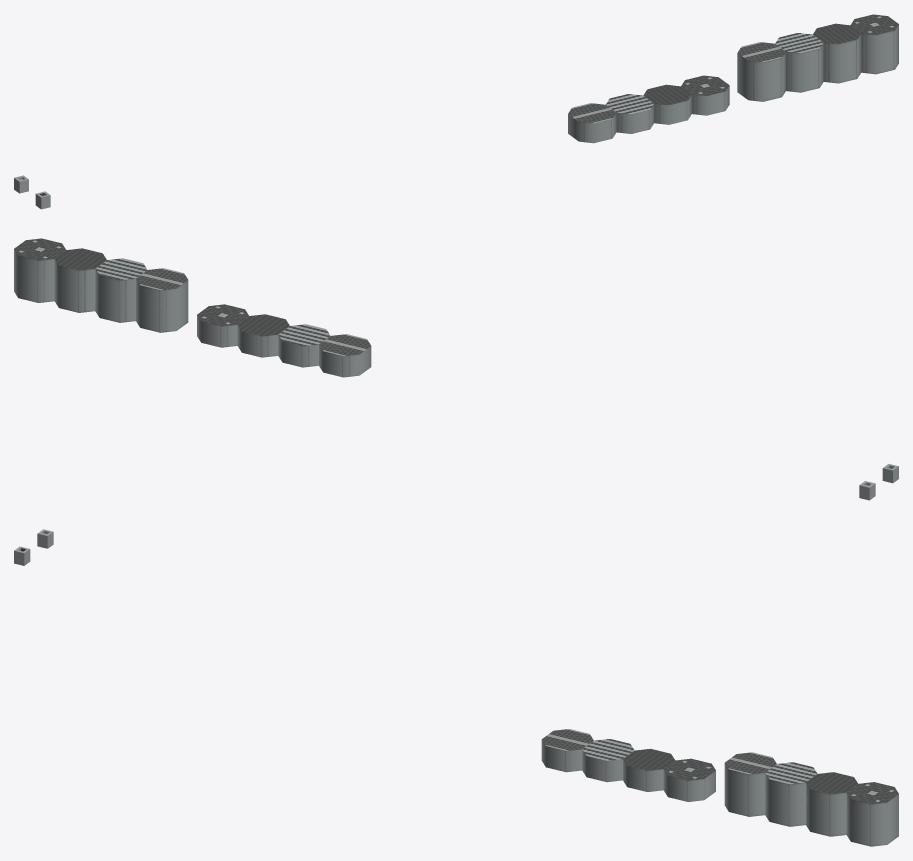
The model's file is ReplacementTiles.glb.
The picture shows the model from 3 angles, top to bottom: view 1: azimuth 30°, elevation 25°; view 2: azimuth 150°, elevation 25°; view 3: azimuth 330°, elevation 25°; orthographic projection. The views are drawn at different scales.
Parts seen in each view (by area): view 1: FloorPanel_Circle_TwoMeter_1, FloorPanel_Circle_TwoMeter_3, FloorPanel_Circle_TwoMeter_4, FloorPanel_Circle_TwoMeter_2, FloorPanel_Circle_OneMeter_1, FloorPanel_Circle_OneMeter_2, FloorPanel_Circle_OneMeter_4, FloorPanel_Circle_OneMeter_3; view 2: FloorPanel_Circle_TwoMeter_1, FloorPanel_Circle_TwoMeter_3, FloorPanel_Circle_TwoMeter_2, FloorPanel_Circle_TwoMeter_4, FloorPanel_Circle_OneMeter_1, FloorPanel_Circle_OneMeter_3, FloorPanel_Circle_OneMeter_2, FloorPanel_Circle_OneMeter_4; view 3: FloorPanel_Circle_TwoMeter_4, FloorPanel_Circle_TwoMeter_1, FloorPanel_Circle_TwoMeter_2, FloorPanel_Circle_TwoMeter_3, FloorPanel_Circle_OneMeter_4, FloorPanel_Circle_OneMeter_1, FloorPanel_Circle_OneMeter_3, FloorPanel_Circle_OneMeter_2.
Part boxes in pixels (bbox=[...]): FloorPanel_Circle_TwoMeter_1: bbox=[737, 42, 785, 101]; FloorPanel_Circle_TwoMeter_3: bbox=[813, 23, 861, 83]; FloorPanel_Circle_TwoMeter_4: bbox=[850, 14, 898, 74]; FloorPanel_Circle_TwoMeter_2: bbox=[775, 33, 823, 92]; FloorPanel_Circle_OneMeter_1: bbox=[568, 103, 616, 143]; FloorPanel_Circle_OneMeter_2: bbox=[605, 94, 654, 133]; FloorPanel_Circle_OneMeter_4: bbox=[681, 75, 729, 115]; FloorPanel_Circle_OneMeter_3: bbox=[643, 84, 691, 124]; FloorPanel_Circle_TwoMeter_1: bbox=[136, 268, 188, 332]; FloorPanel_Circle_TwoMeter_3: bbox=[54, 248, 106, 312]; FloorPanel_Circle_TwoMeter_2: bbox=[95, 258, 147, 322]; FloorPanel_Circle_TwoMeter_4: bbox=[14, 238, 65, 302]; FloorPanel_Circle_OneMeter_1: bbox=[319, 334, 371, 377]; FloorPanel_Circle_OneMeter_3: bbox=[237, 314, 289, 357]; FloorPanel_Circle_OneMeter_2: bbox=[278, 324, 330, 367]; FloorPanel_Circle_OneMeter_4: bbox=[197, 304, 248, 347]; FloorPanel_Circle_TwoMeter_4: bbox=[846, 782, 898, 846]; FloorPanel_Circle_TwoMeter_1: bbox=[724, 752, 776, 816]; FloorPanel_Circle_TwoMeter_2: bbox=[765, 762, 817, 826]; FloorPanel_Circle_TwoMeter_3: bbox=[806, 772, 857, 836]; FloorPanel_Circle_OneMeter_4: bbox=[663, 758, 715, 801]; FloorPanel_Circle_OneMeter_1: bbox=[541, 729, 593, 772]; FloorPanel_Circle_OneMeter_3: bbox=[623, 748, 675, 791]; FloorPanel_Circle_OneMeter_2: bbox=[582, 739, 634, 782].
Bounding box in the file's own units: 44.25 × 2.6 × 5.25.
1 material, 1 textured.
